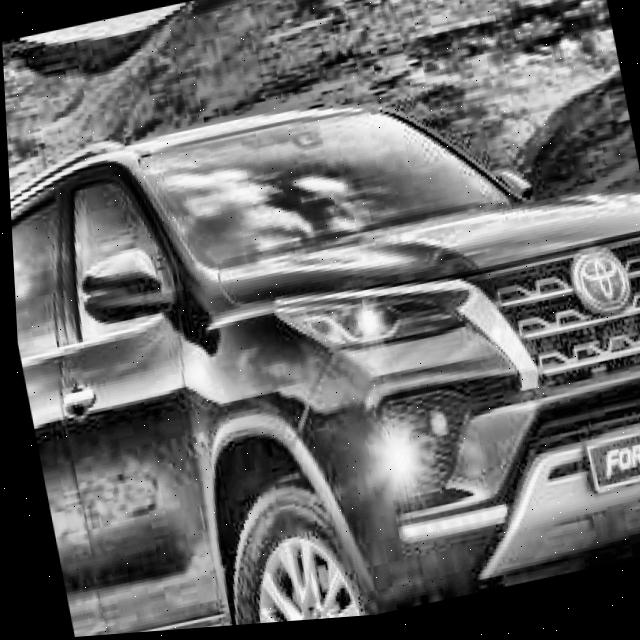light_vehicle: (3, 36, 640, 640)
